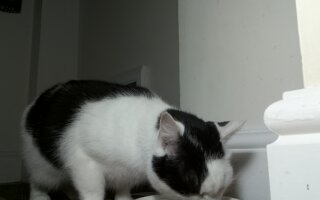bad: (20, 80, 246, 200)
